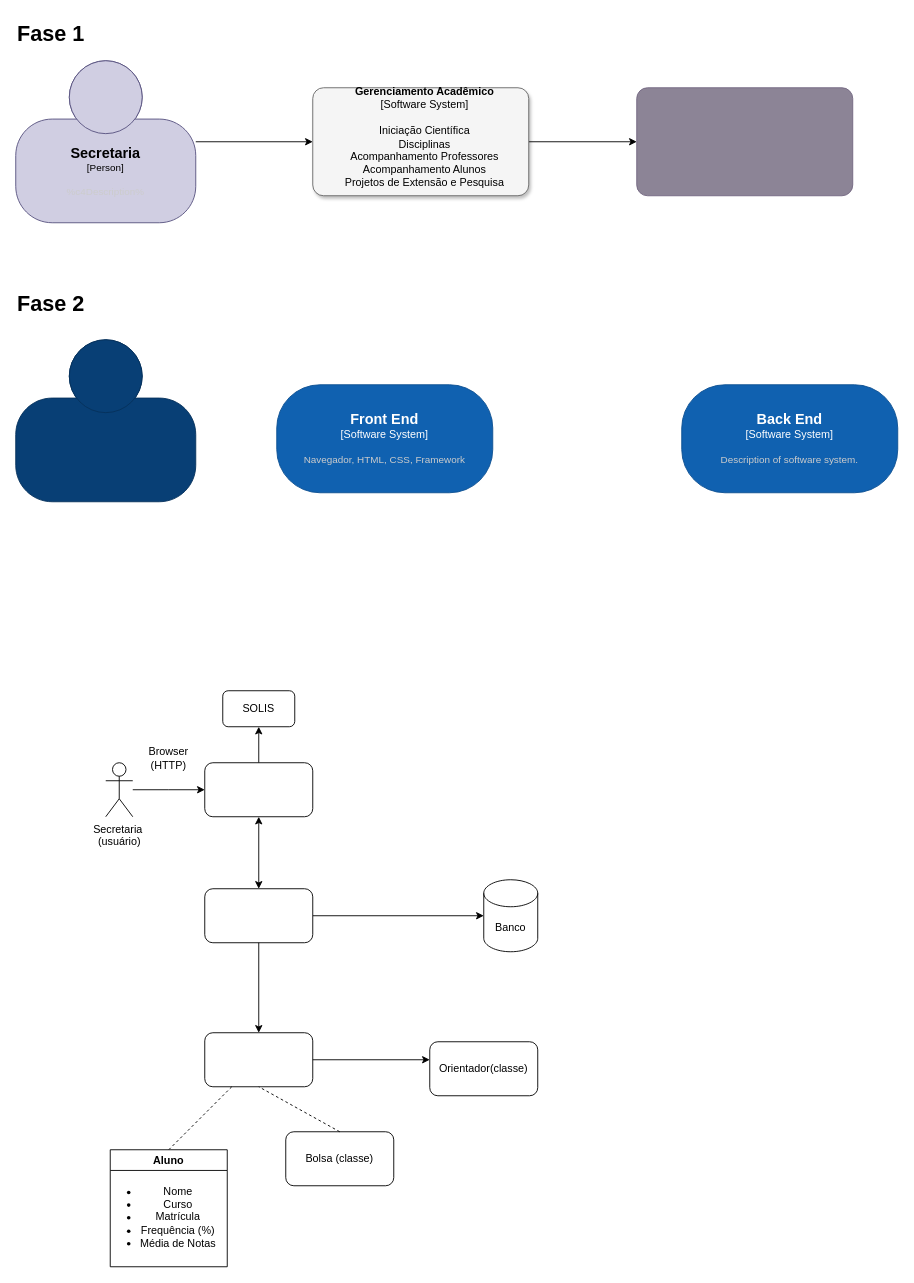
Image size: 914x1283. Some labels were removed from this diagram. Each missing label, with the centre of its shape:
Projeto (classe): pixel 258 1059
Servidor (Java): pixel 258 789
Sistema: pixel 258 915
Solis [Software System] Portal Acadêmico: pixel 744 141
Usuário [Person] Description of person.: pixel 105 420
